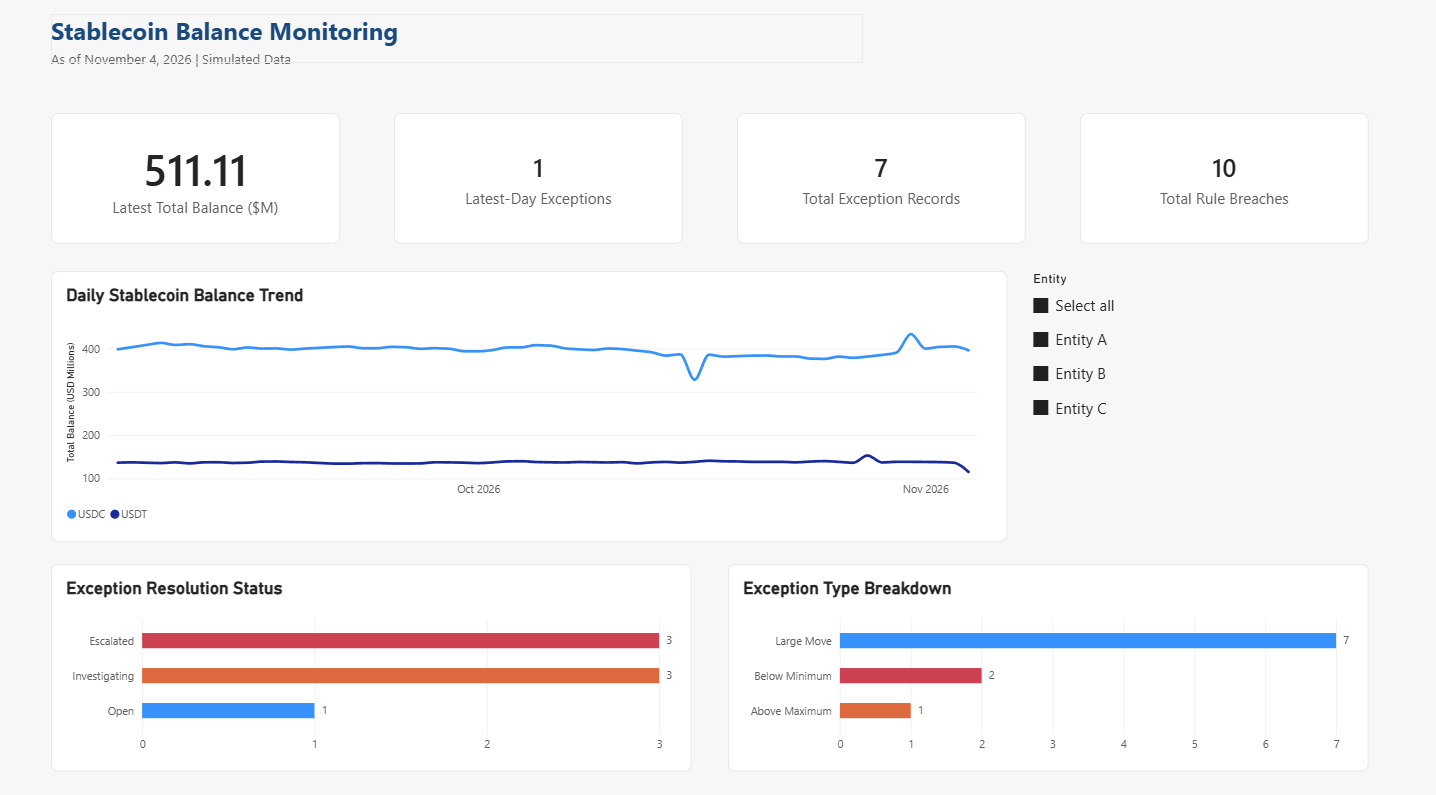

The page's visual inventory and layout, read from the dashboard file:
{"tool":"powerbi","page":{"name":"Monitoring Overview","canvas":[1600,900],"ordinal":0},"visuals":[{"type":"card","fields":{"Values":["Balances_PBI.Latest Total Balance ($M)"]},"box":[60,135,320,145],"z":0},{"type":"textbox","box":[60,65,320,35],"z":1},{"type":"card","fields":{"Values":["Balances_PBI.Active Exceptions"]},"box":[440,135,320,145],"z":2},{"type":"card","fields":{"Values":["Balances_PBI.Total Exception Records"]},"box":[820,135,320,145],"z":3},{"type":"card","fields":{"Values":["Balances_PBI.Total Rule Breaches"]},"box":[1200,135,320,145],"z":4},{"type":"lineChart","title":"Daily Stablecoin Balance Trend","fields":{"Category":["Balances_PBI.Date"],"Series":["Balances_PBI.Asset"],"Y":["Sum(Balances_PBI.Balance_M)"]},"box":[60,310,1060,300],"z":5},{"type":"slicer","fields":{"Values":["DimEntity.Entity"]},"box":[1140,310,380,300],"z":6},{"type":"clusteredBarChart","title":"Exception Resolution Status","fields":{"Category":["Balances_PBI.Followup_Status"],"Y":["Sum(Balances_PBI.Any_Exception)"]},"box":[60,635,710,230],"z":8},{"type":"clusteredBarChart","title":"Exception Type Breakdown","fields":{"Category":["Exception_Types.Exception_Type"],"Y":["Sum(Exception_Types.Breach_Flag)"]},"box":[810,635,710,230],"z":9},{"type":"textbox","box":[60,25,900,55],"z":10}]}

Visuals, with their boxes in screenshot pixels (x1, y1, x2, y2), scaled from the page's 1600x900 canvas onto the 1436x795 screenshot:
card - Balances_PBI.Latest Total Balance ($M): left=54, top=119, right=341, bottom=247
textbox: left=54, top=57, right=341, bottom=88
card - Balances_PBI.Active Exceptions: left=395, top=119, right=682, bottom=247
card - Balances_PBI.Total Exception Records: left=736, top=119, right=1023, bottom=247
card - Balances_PBI.Total Rule Breaches: left=1077, top=119, right=1364, bottom=247
"Daily Stablecoin Balance Trend" lineChart: left=54, top=274, right=1005, bottom=539
slicer - DimEntity.Entity: left=1023, top=274, right=1364, bottom=539
"Exception Resolution Status" clusteredBarChart: left=54, top=561, right=691, bottom=764
"Exception Type Breakdown" clusteredBarChart: left=727, top=561, right=1364, bottom=764
textbox: left=54, top=22, right=862, bottom=71
